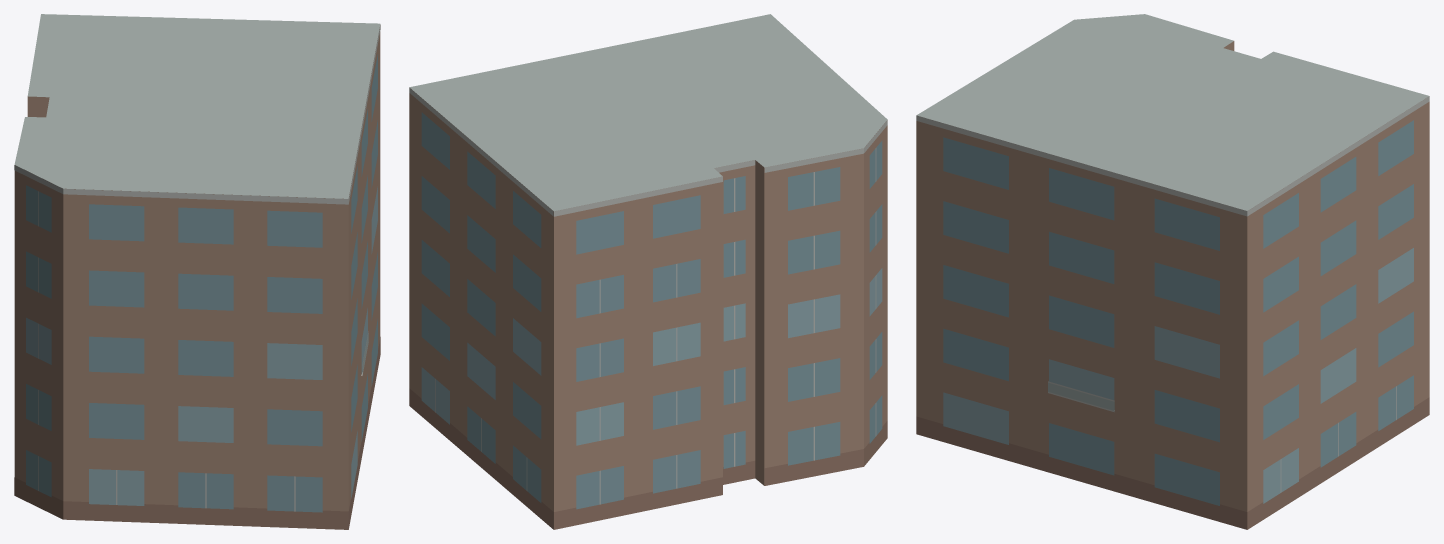
Rendered from survey-upis-32749495.glb.
The picture shows the model from 3 angles, left to right: view 1: azimuth 30°, elevation 25°; view 2: azimuth 150°, elevation 25°; view 3: azimuth 270°, elevation 25°; orthographic projection. The views are drawn at different scales.
Parts seen in each view (by area): view 1: survey-upis-32749495.tmp; view 2: survey-upis-32749495.tmp; view 3: survey-upis-32749495.tmp.
Boxes of the visible parts, left/top/right/bottom form: survey-upis-32749495.tmp: left=14, top=14, right=380, bottom=529; survey-upis-32749495.tmp: left=409, top=14, right=887, bottom=529; survey-upis-32749495.tmp: left=916, top=14, right=1429, bottom=529.
Size of the model in its own units: 18.96 by 14.3 by 20.87.
